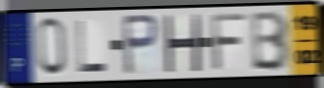0: (35, 15, 68, 79)
B: (251, 9, 292, 73)
F: (209, 12, 249, 73)
H: (162, 14, 202, 74)
L: (75, 19, 109, 75)
P: (121, 13, 160, 77)
